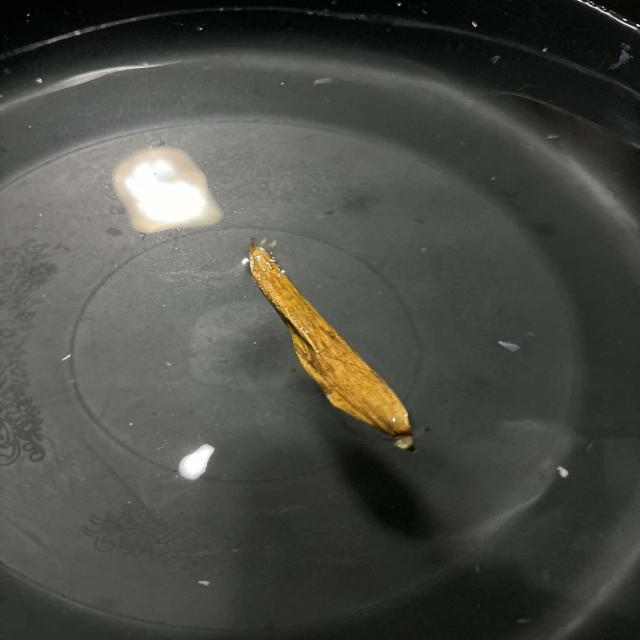Leaf: (218, 229, 432, 462)
